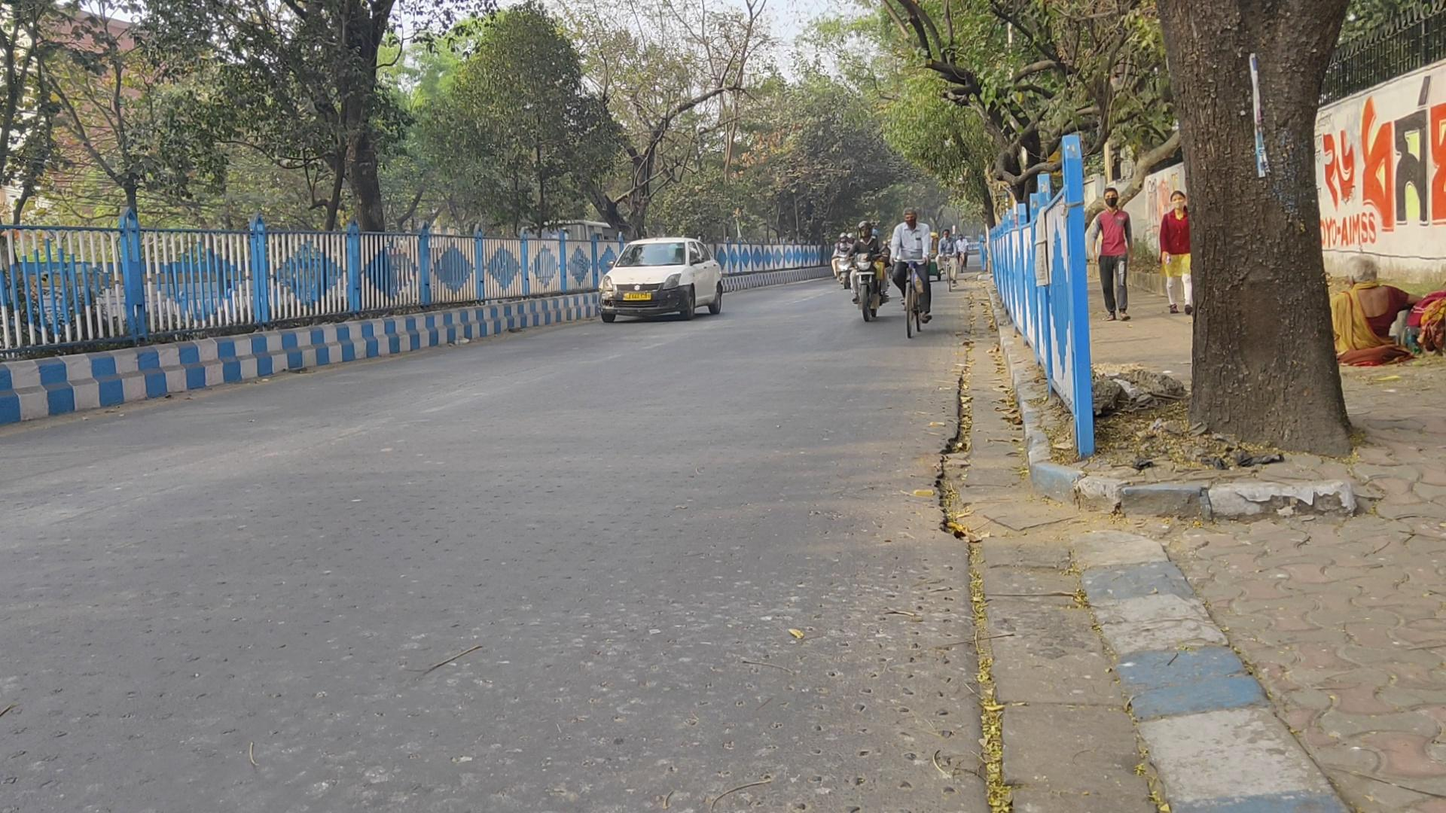bike: (888, 208, 932, 338), (847, 221, 886, 322), (937, 227, 961, 293), (832, 235, 850, 294)
car: (597, 239, 723, 322)
